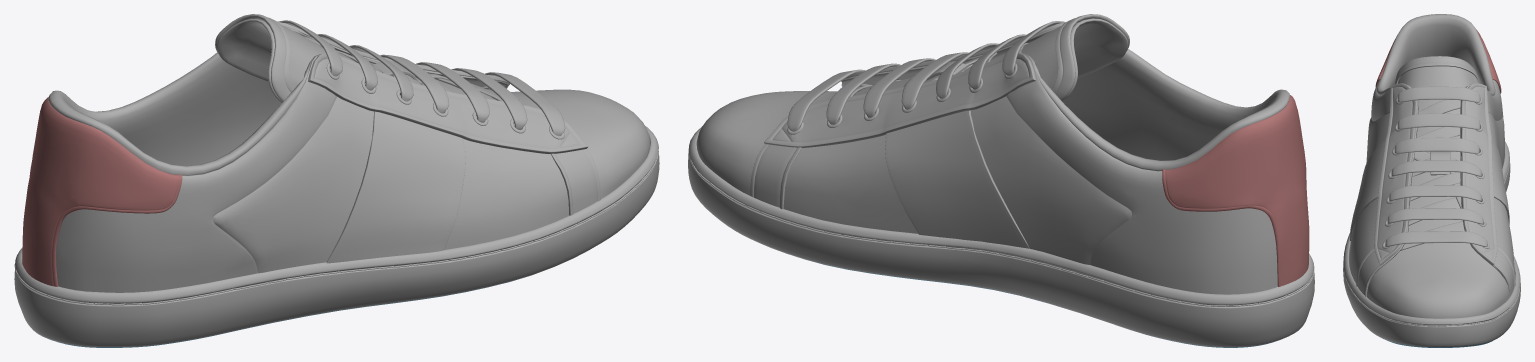
Rendered from Ace_Bee.glb.
The picture shows the model from 3 angles, left to right: view 1: azimuth 30°, elevation 25°; view 2: azimuth 150°, elevation 25°; view 3: azimuth 270°, elevation 25°; orthographic projection. The views are drawn at different scales.
Parts seen in each view (by area): view 1: group6_pCylinder20, polySurface13, stich; view 2: group6_pCylinder20, polySurface13, stich; view 3: group6_pCylinder20, stich, polySurface13.
Part boxes in pixels (x1,y1,x2,y2): group6_pCylinder20: (14,14,659,347); polySurface13: (22,97,182,286); stich: (14,144,658,305); group6_pCylinder20: (688,14,1314,347); polySurface13: (1162,95,1309,286); stich: (688,148,1314,306); group6_pCylinder20: (1343,14,1520,347); stich: (1343,164,1520,326); polySurface13: (1375,29,1501,93).
Size of the model in its own units: 0.2085 by 0.0854 by 0.0755.
